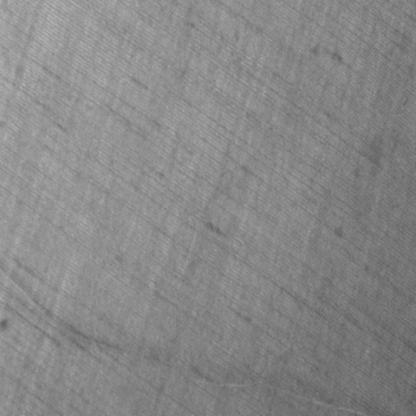objects: (0, 263, 369, 415)
